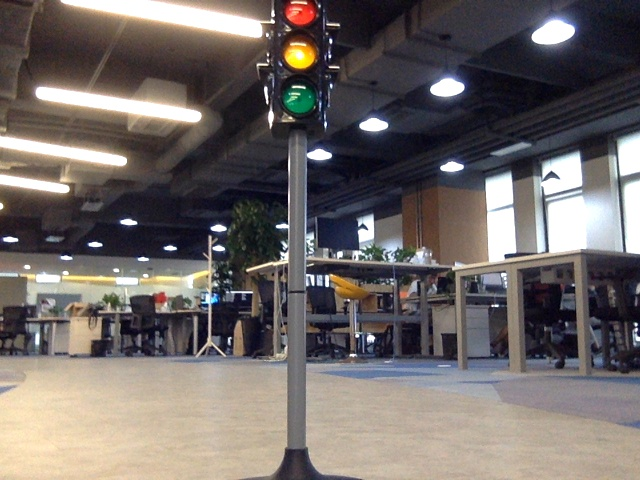yellow: (274, 1, 322, 123)
